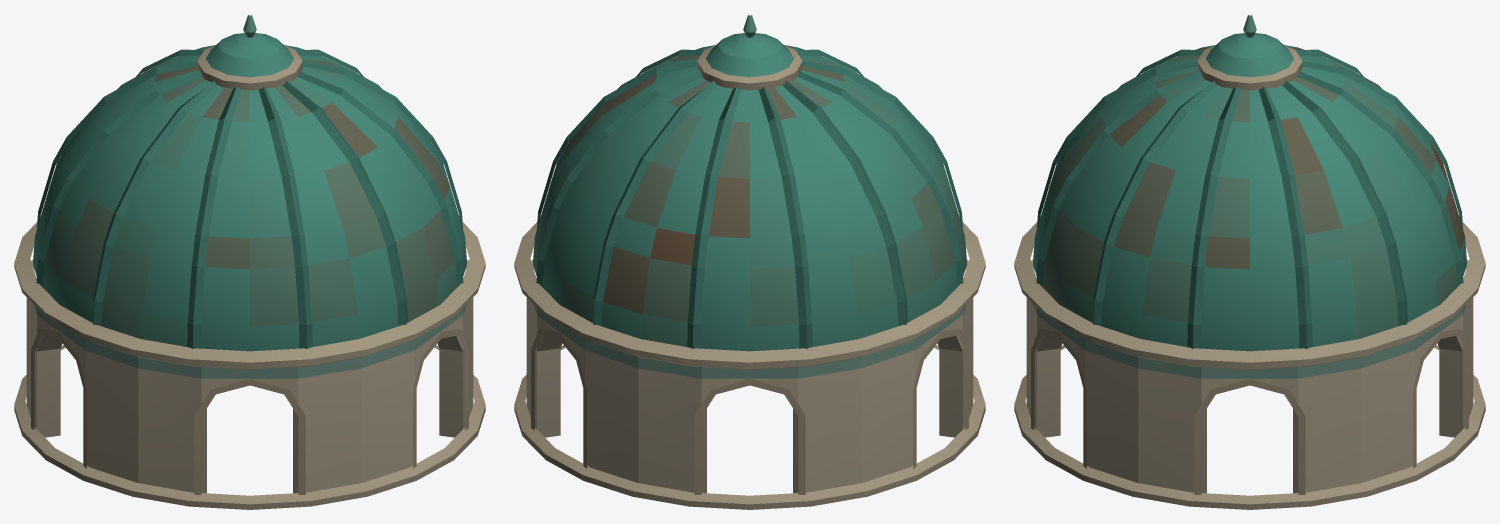
File: dome.whole_12.copper.glb
3 renders of one model, left to right at view 1: azimuth 30°, elevation 25°; view 2: azimuth 150°, elevation 25°; view 3: azimuth 270°, elevation 25°, orthographic.
Visible parts, largest first — view 1: dome_whole_12_copper; view 2: dome_whole_12_copper; view 3: dome_whole_12_copper.
Part boxes in pixels (x1,y1,x2,y2): dome_whole_12_copper: [14, 15, 485, 509]; dome_whole_12_copper: [514, 15, 985, 509]; dome_whole_12_copper: [1014, 15, 1485, 509].
Size of what is drawn, in the model's own units: 7.6 by 7.03 by 7.6.
